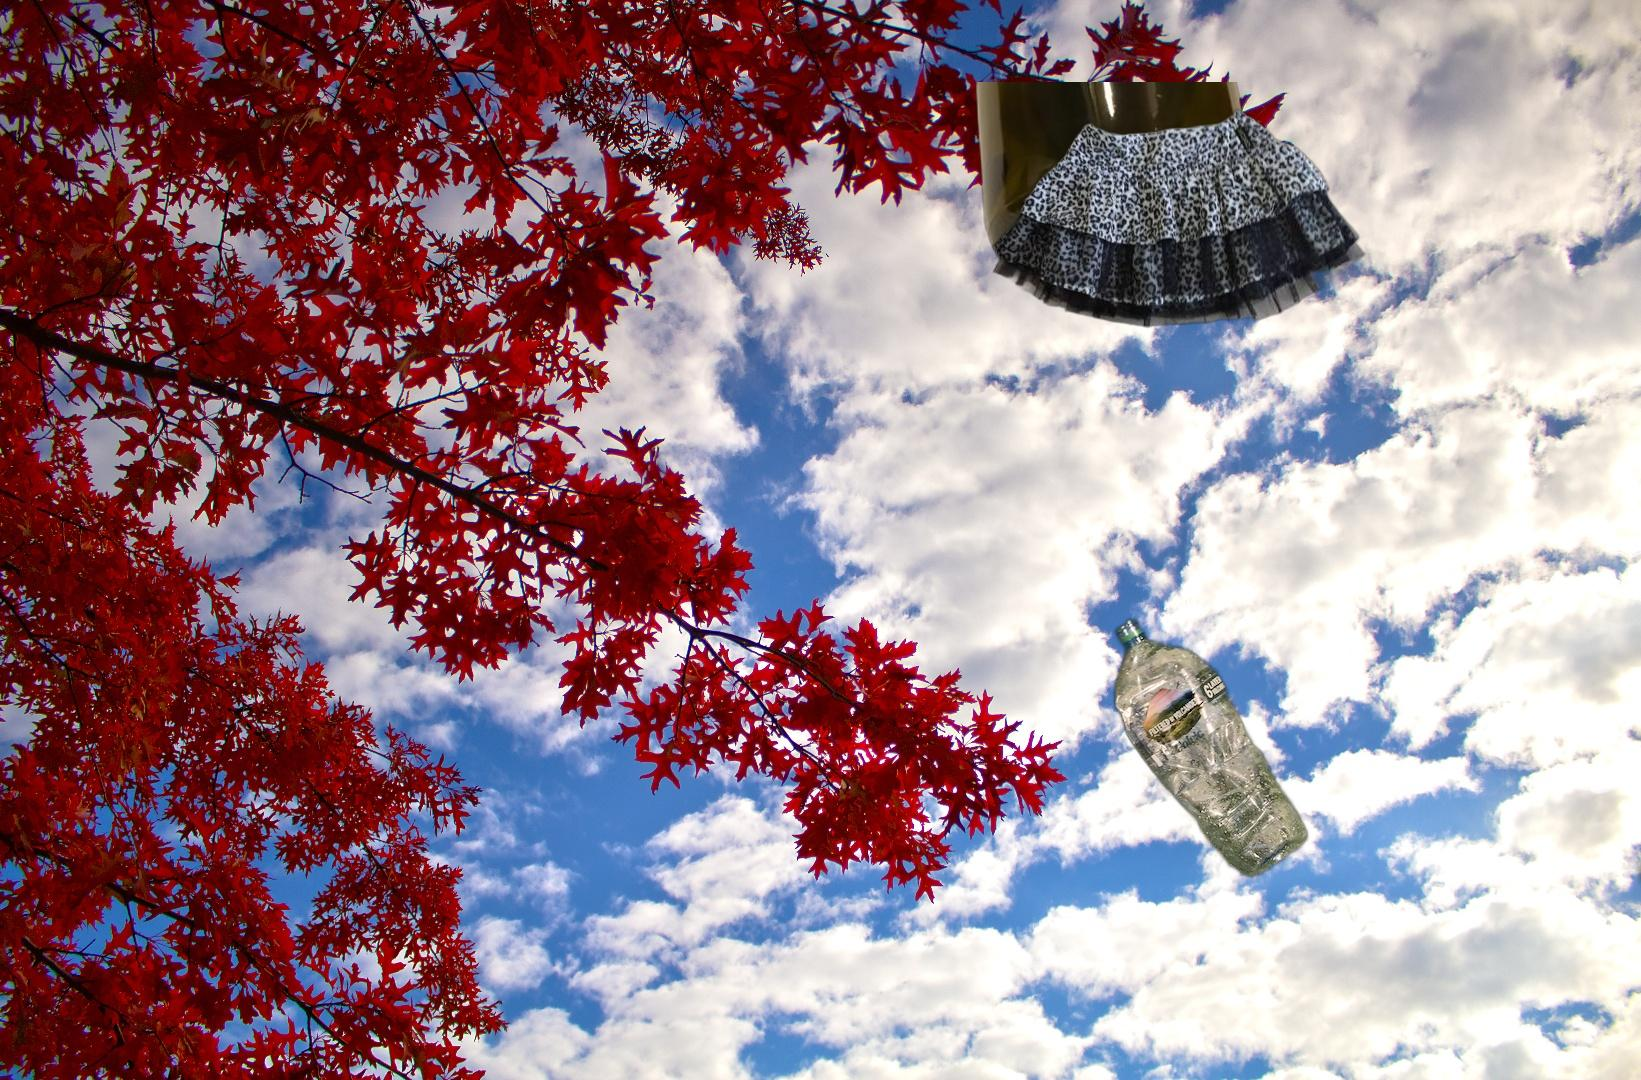clothes: (989, 106, 1368, 330)
glass: (971, 82, 1261, 291)
penholder: (1622, 783, 1641, 1080)
plastic-bottles: (1108, 613, 1313, 882)
trashbox-cardboard: (1235, 1010, 1641, 1080)
